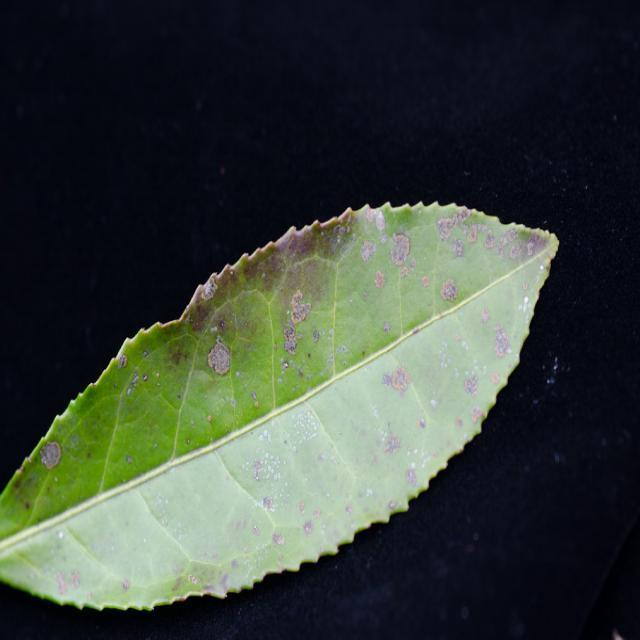Tea red rust: (52, 198, 529, 604)
